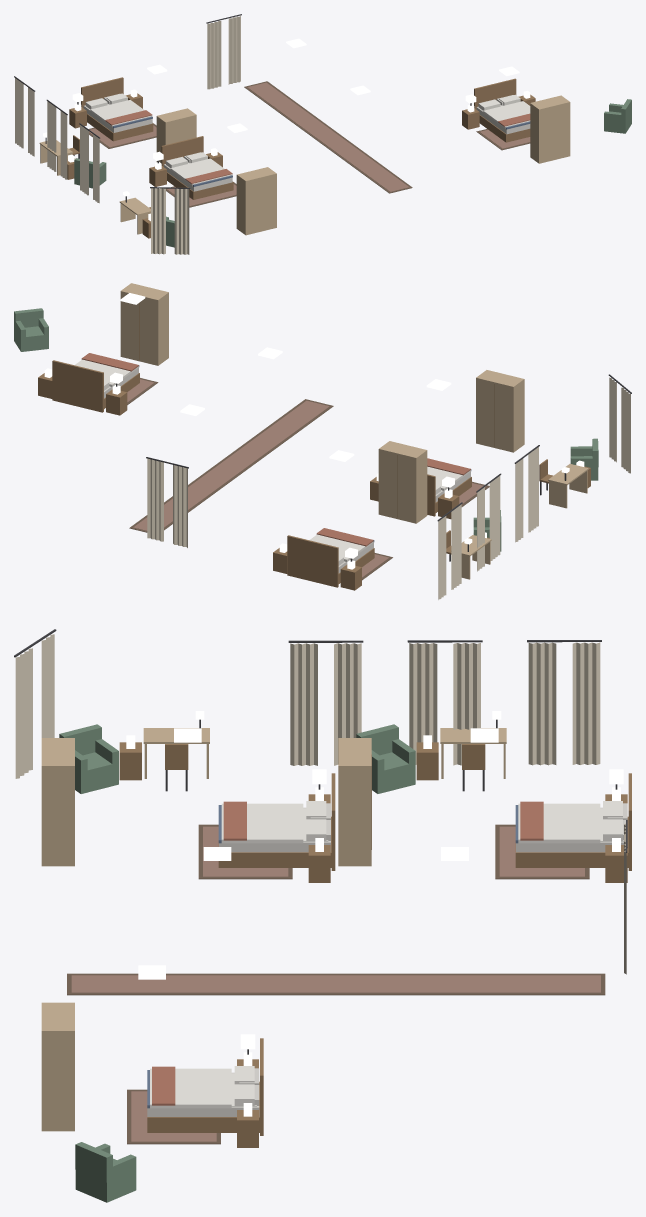
The model's file is fine-s2.glb.
3 views of the same model, one above another, from view 1: azimuth 30°, elevation 25°; view 2: azimuth 150°, elevation 25°; view 3: azimuth 270°, elevation 25° (orthographic). The views are drawn at different scales.
Visible parts, largest first — view 1: soft-s2, dresser.003, dresser.005, bed-frame.004, bed-frame.005, bed-frame.003, dresser.004, lounge-chair.003, writing-desk.003, lounge-chair.004, writing-desk.002, nightstand.006 (+2 smaller); view 2: soft-s2, dresser.004, dresser.005, dresser.003, bed-frame.004, bed-frame.003, lounge-chair.003, writing-desk.003, bed-frame.005, writing-desk.002, lounge-chair.005, nightstand.006 (+2 smaller); view 3: soft-s2, dresser.003, dresser.004, dresser.005, bed-frame.003, bed-frame.004, bed-frame.005, lounge-chair.003, lounge-chair.004, lounge-chair.005, writing-desk.003, writing-desk.002 (+5 smaller).
Boxes of the visible parts, x1=… form: soft-s2: x1=14, y1=14, x2=530, y2=254; dresser.003: x1=530, y1=95, x2=570, y2=163; dresser.005: x1=236, y1=167, x2=276, y2=235; bed-frame.004: x1=81, y1=77, x2=153, y2=141; bed-frame.005: x1=161, y1=136, x2=233, y2=199; bed-frame.003: x1=474, y1=78, x2=530, y2=142; dresser.004: x1=156, y1=108, x2=196, y2=162; lounge-chair.003: x1=604, y1=99, x2=631, y2=133; writing-desk.003: x1=119, y1=191, x2=150, y2=234; lounge-chair.004: x1=74, y1=158, x2=106, y2=188; writing-desk.002: x1=39, y1=132, x2=72, y2=175; nightstand.006: x1=462, y1=104, x2=479, y2=129; soft-s2: x1=75, y1=353, x2=631, y2=599; dresser.004: x1=378, y1=441, x2=427, y2=523; dresser.005: x1=476, y1=370, x2=524, y2=452; dresser.003: x1=120, y1=283, x2=168, y2=365; bed-frame.004: x1=287, y1=535, x2=374, y2=587; bed-frame.003: x1=52, y1=360, x2=139, y2=412; lounge-chair.003: x1=14, y1=308, x2=48, y2=351; writing-desk.003: x1=548, y1=464, x2=588, y2=508; bed-frame.005: x1=427, y1=469, x2=471, y2=516; writing-desk.002: x1=451, y1=535, x2=491, y2=579; lounge-chair.005: x1=570, y1=438, x2=598, y2=480; nightstand.006: x1=106, y1=385, x2=127, y2=415; soft-s2: x1=14, y1=629, x2=627, y2=1144; dresser.003: x1=41, y1=1002, x2=74, y2=1131; dresser.004: x1=338, y1=738, x2=371, y2=866; dresser.005: x1=41, y1=738, x2=74, y2=866; bed-frame.003: x1=147, y1=1038, x2=263, y2=1135; bed-frame.004: x1=515, y1=773, x2=631, y2=870; bed-frame.005: x1=218, y1=773, x2=335, y2=870; lounge-chair.003: x1=75, y1=1142, x2=136, y2=1202; lounge-chair.004: x1=356, y1=724, x2=415, y2=793; lounge-chair.005: x1=59, y1=724, x2=118, y2=793; writing-desk.003: x1=143, y1=711, x2=209, y2=778; writing-desk.002: x1=440, y1=711, x2=506, y2=778.
Size of the model in its own units: 19.13 by 2.63 by 11.15.
